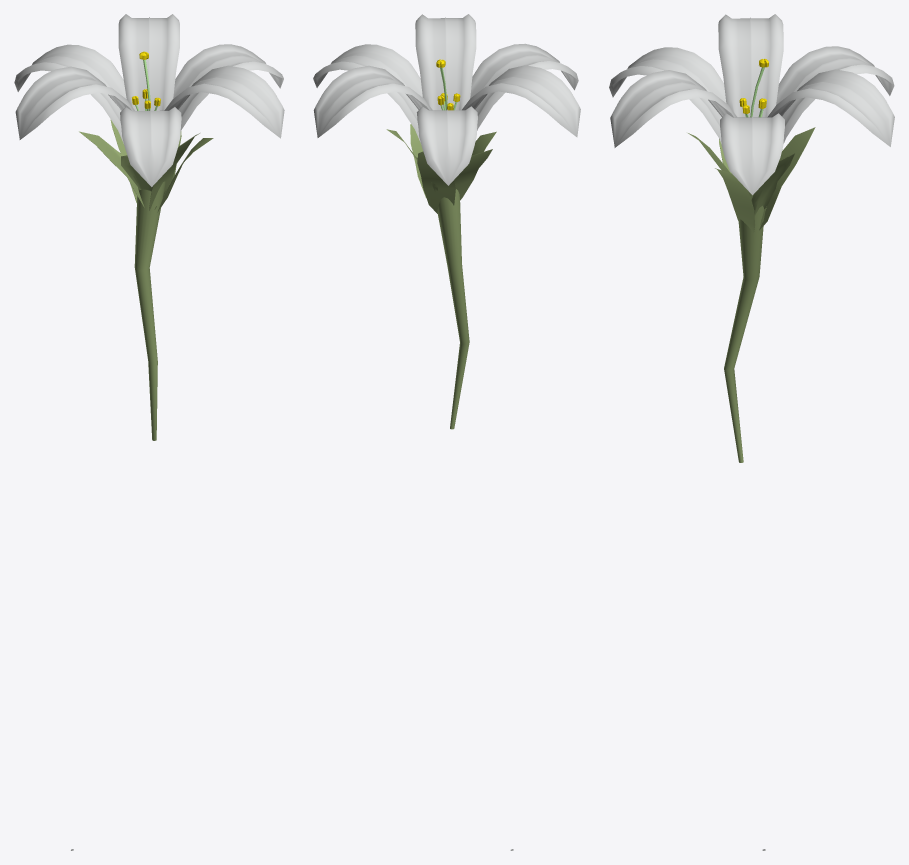
The model's file is lilly_full.fbx.
3 views of the same model, side by side, from view 1: azimuth 30°, elevation 25°; view 2: azimuth 150°, elevation 25°; view 3: azimuth 270°, elevation 25° (orthographic). The views are drawn at different scales.
Parts seen in each view (by area): view 1: pPlane11, pCylinder5, pasted__pCube25, pasted__pCube23; view 2: pPlane11, pCylinder5, pasted__pasted__pCube23, pasted__pCube25; view 3: pPlane11, pCylinder5, pasted__pasted__pCube25, pasted__pasted__pCube23, pasted__pCube24.
Boxes of the visible parts, x1=… form: pPlane11: x1=14, y1=14, x2=284, y2=850; pCylinder5: x1=134, y1=181, x2=165, y2=440; pasted__pCube25: x1=79, y1=131, x2=144, y2=208; pasted__pCube23: x1=149, y1=133, x2=199, y2=210; pPlane11: x1=313, y1=14, x2=580, y2=850; pCylinder5: x1=437, y1=189, x2=469, y2=429; pasted__pasted__pCube23: x1=417, y1=151, x2=455, y2=213; pasted__pCube25: x1=454, y1=149, x2=492, y2=200; pPlane11: x1=609, y1=14, x2=894, y2=850; pCylinder5: x1=724, y1=191, x2=764, y2=462; pasted__pasted__pCube25: x1=715, y1=168, x2=754, y2=232; pasted__pasted__pCube23: x1=759, y1=127, x2=815, y2=230; pasted__pCube24: x1=751, y1=153, x2=795, y2=215.
Bounding box in the file's own units: 1.1 × 3.15 × 0.9851.
